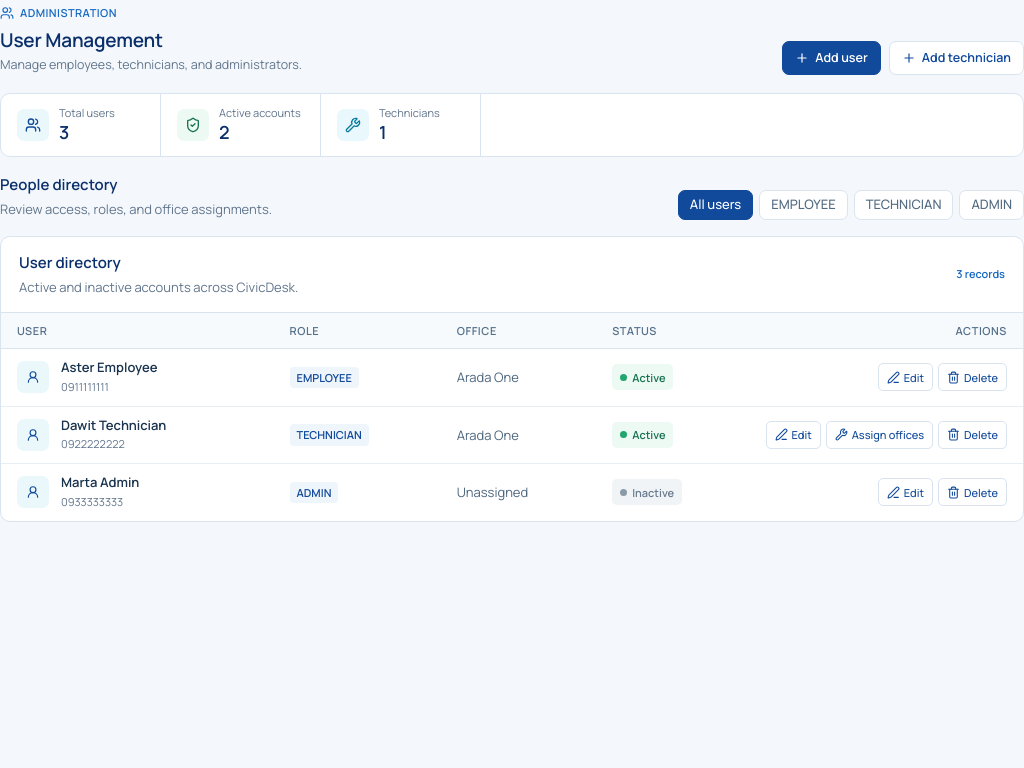
Scenario: UserManagement › opens the edit user modal with existing values
Expected: the text "Aster Employee" is shown, [61,359,158,376]
Step 1. Click the button "Edit" in the row of "Aster Employee" → (905, 377), box [878,363,933,391]
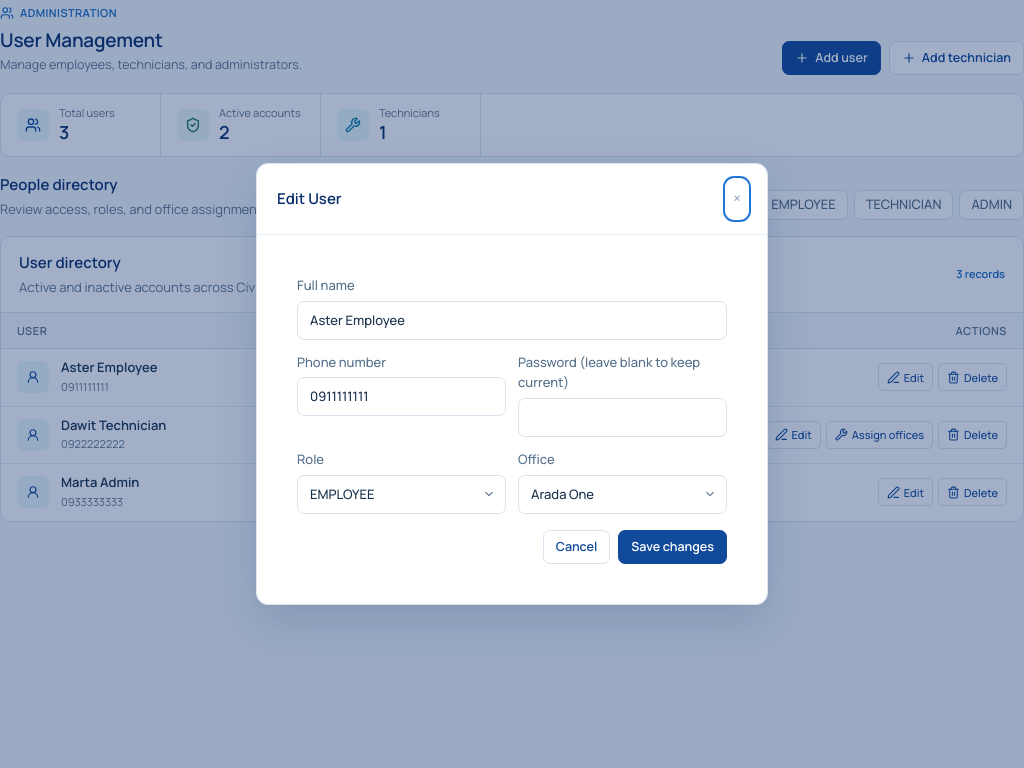
Expected: the dialog is shown, [256,163,768,605]
Expected: the field showing "Aster Employee" is shown, [297,301,727,340]
Expected: the field showing "0911111111" is shown, [297,377,506,416]
